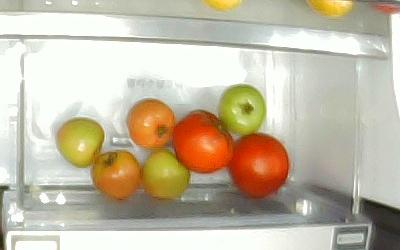tomato: (228, 133, 290, 200), (173, 110, 233, 175), (126, 98, 175, 151), (217, 84, 266, 137), (91, 150, 142, 199), (56, 117, 104, 169), (142, 150, 190, 199)
